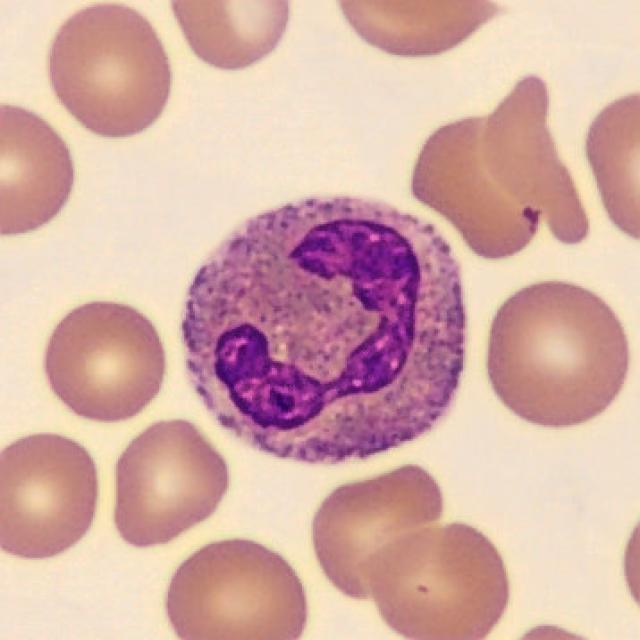Neutrofilo segmentado: (181, 201, 467, 466)
